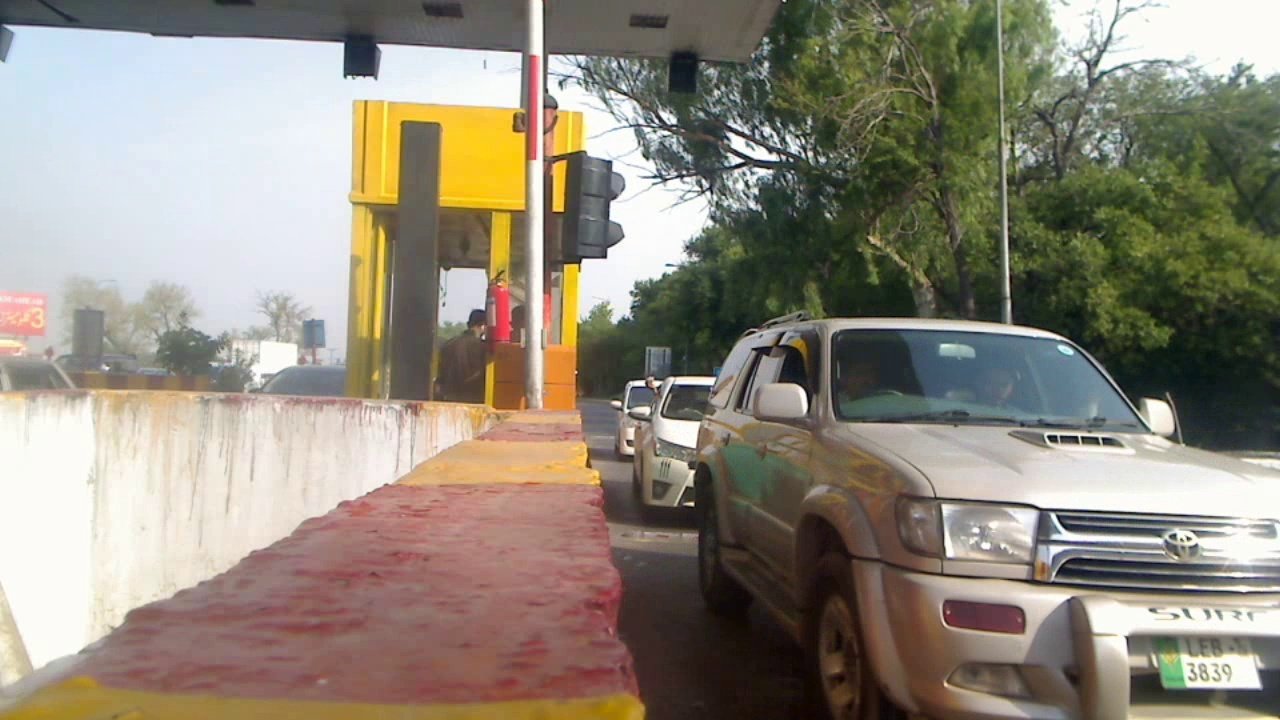Number Plate (Car): (1159, 635, 1259, 687)
